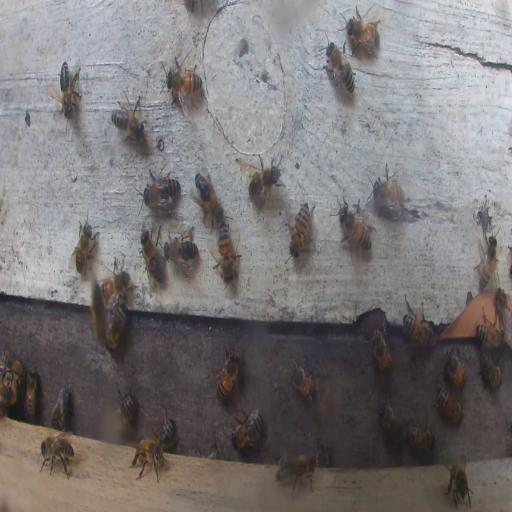nonpollenbee: (246, 155, 284, 209), (343, 5, 381, 57), (324, 38, 357, 97), (276, 450, 316, 498), (336, 204, 374, 254), (400, 296, 433, 350), (371, 164, 405, 216), (191, 171, 222, 228), (110, 94, 145, 144), (70, 214, 98, 276), (142, 168, 182, 211), (39, 432, 75, 476), (130, 436, 166, 479), (163, 65, 202, 103), (57, 60, 81, 119), (140, 224, 164, 283), (216, 220, 239, 280), (445, 453, 470, 507), (230, 407, 262, 449), (289, 202, 313, 256), (217, 346, 241, 400), (290, 357, 316, 403), (105, 296, 127, 350), (476, 237, 498, 291), (166, 232, 198, 267), (435, 386, 463, 425), (50, 383, 72, 429), (99, 266, 128, 300), (378, 400, 401, 442), (404, 423, 437, 452), (475, 315, 504, 348), (371, 328, 391, 373), (444, 349, 466, 389), (114, 384, 136, 424), (155, 408, 175, 451), (494, 287, 512, 334), (480, 352, 501, 388), (24, 368, 37, 419), (2, 351, 24, 379), (1, 375, 16, 406), (316, 443, 330, 467), (208, 444, 221, 458)
pollenbee: (90, 280, 108, 345)
